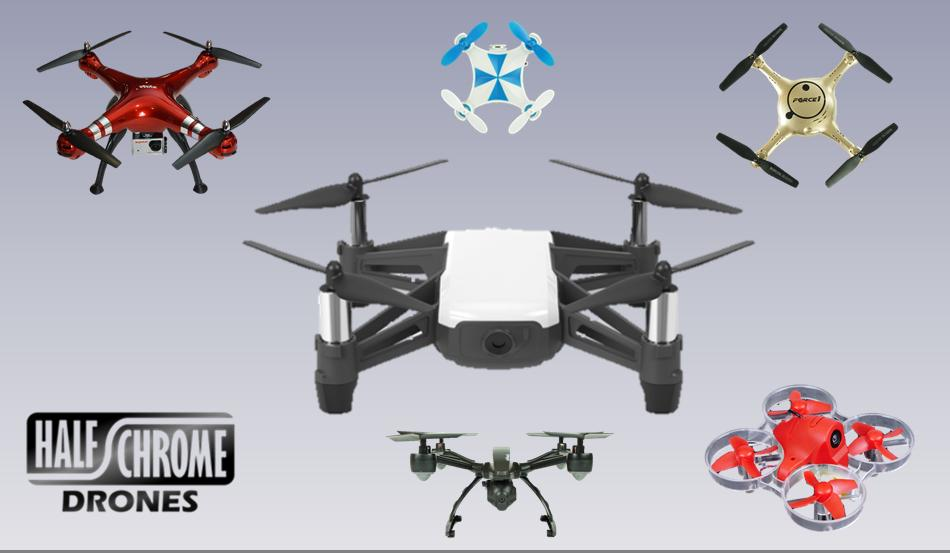drone: (245, 164, 753, 416), (14, 22, 276, 200), (694, 362, 923, 537), (699, 17, 908, 198), (370, 418, 616, 541), (425, 20, 567, 141)
